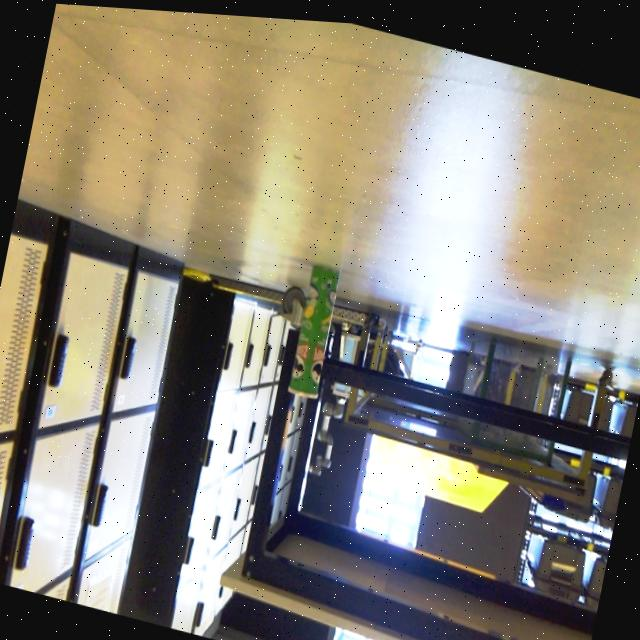greenpringles: (274, 244, 360, 412)
